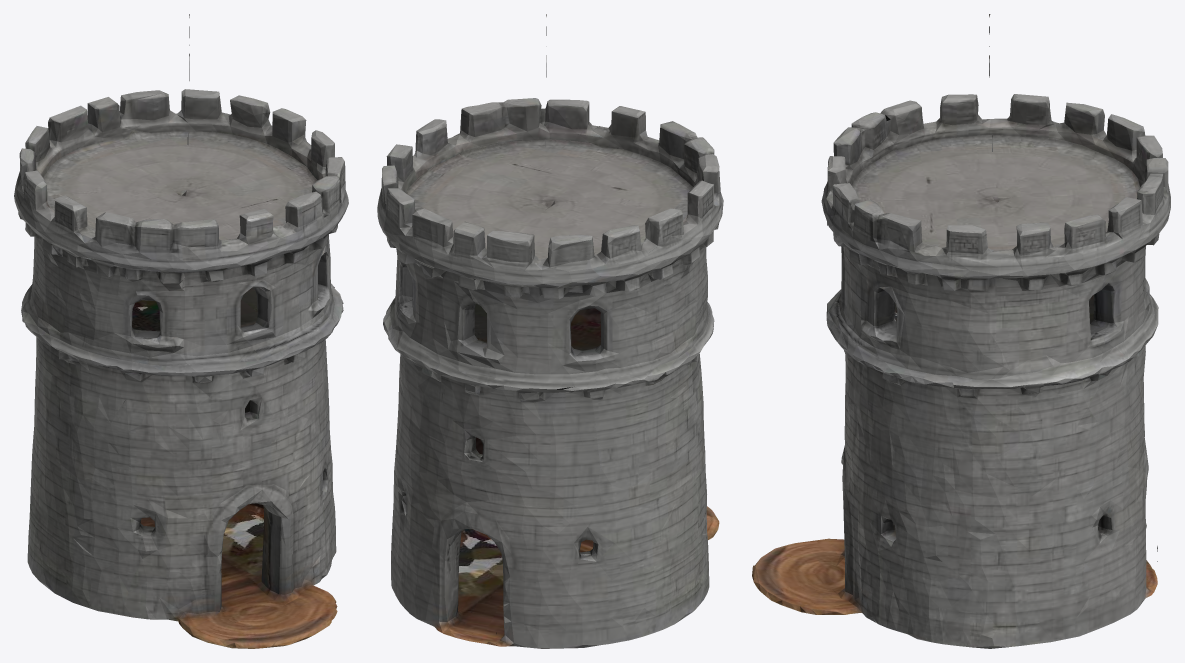
Rendered from tower_round_lod0.glb.
3 renders of one model, left to right at view 1: azimuth 30°, elevation 25°; view 2: azimuth 150°, elevation 25°; view 3: azimuth 270°, elevation 25°, orthographic. The views are drawn at different scales.
Parts seen in each view (by area): view 1: tower_round_lod0; view 2: tower_round_lod0; view 3: tower_round_lod0.
Part boxes in pixels (x1,y1,x2,y2): tower_round_lod0: (14, 14, 348, 648); tower_round_lod0: (377, 14, 723, 648); tower_round_lod0: (752, 14, 1170, 648).
Bounding box in the file's own units: 6.51 × 11.94 × 7.95.
1 material, 1 textured.
